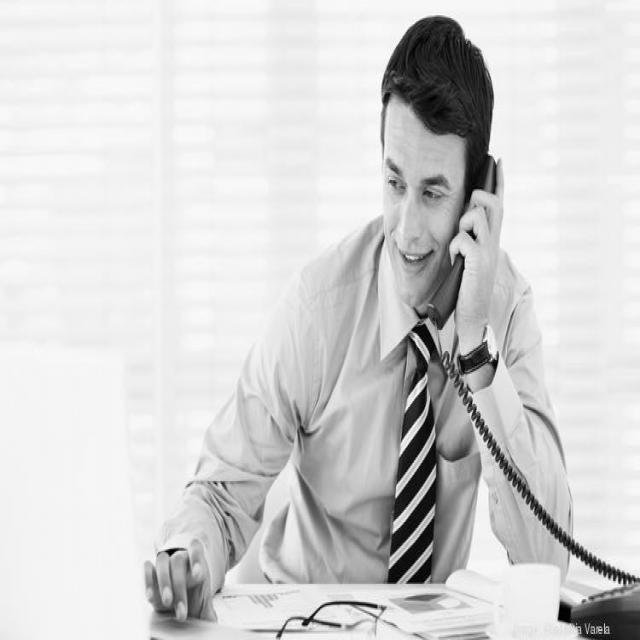phone: (416, 129, 514, 354)
